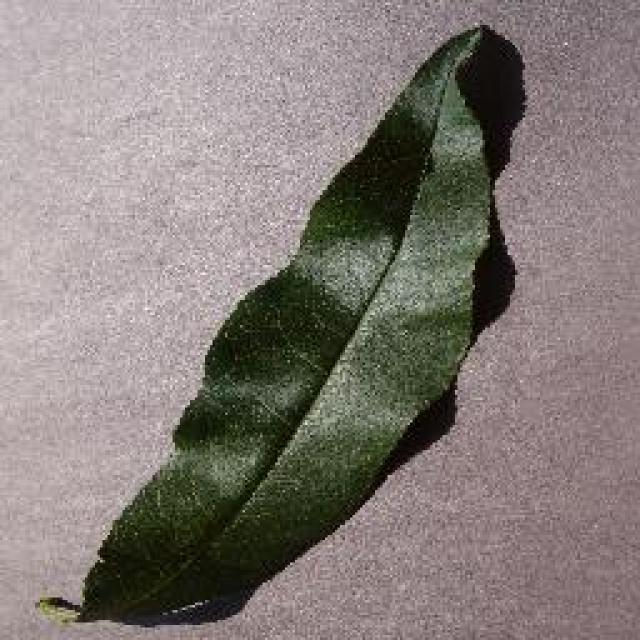Pea_healthy: (114, 80, 498, 554)
